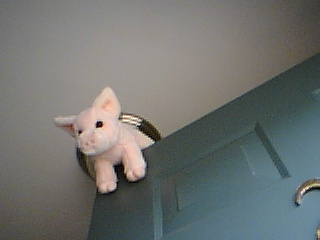piggy: (53, 85, 157, 195)
